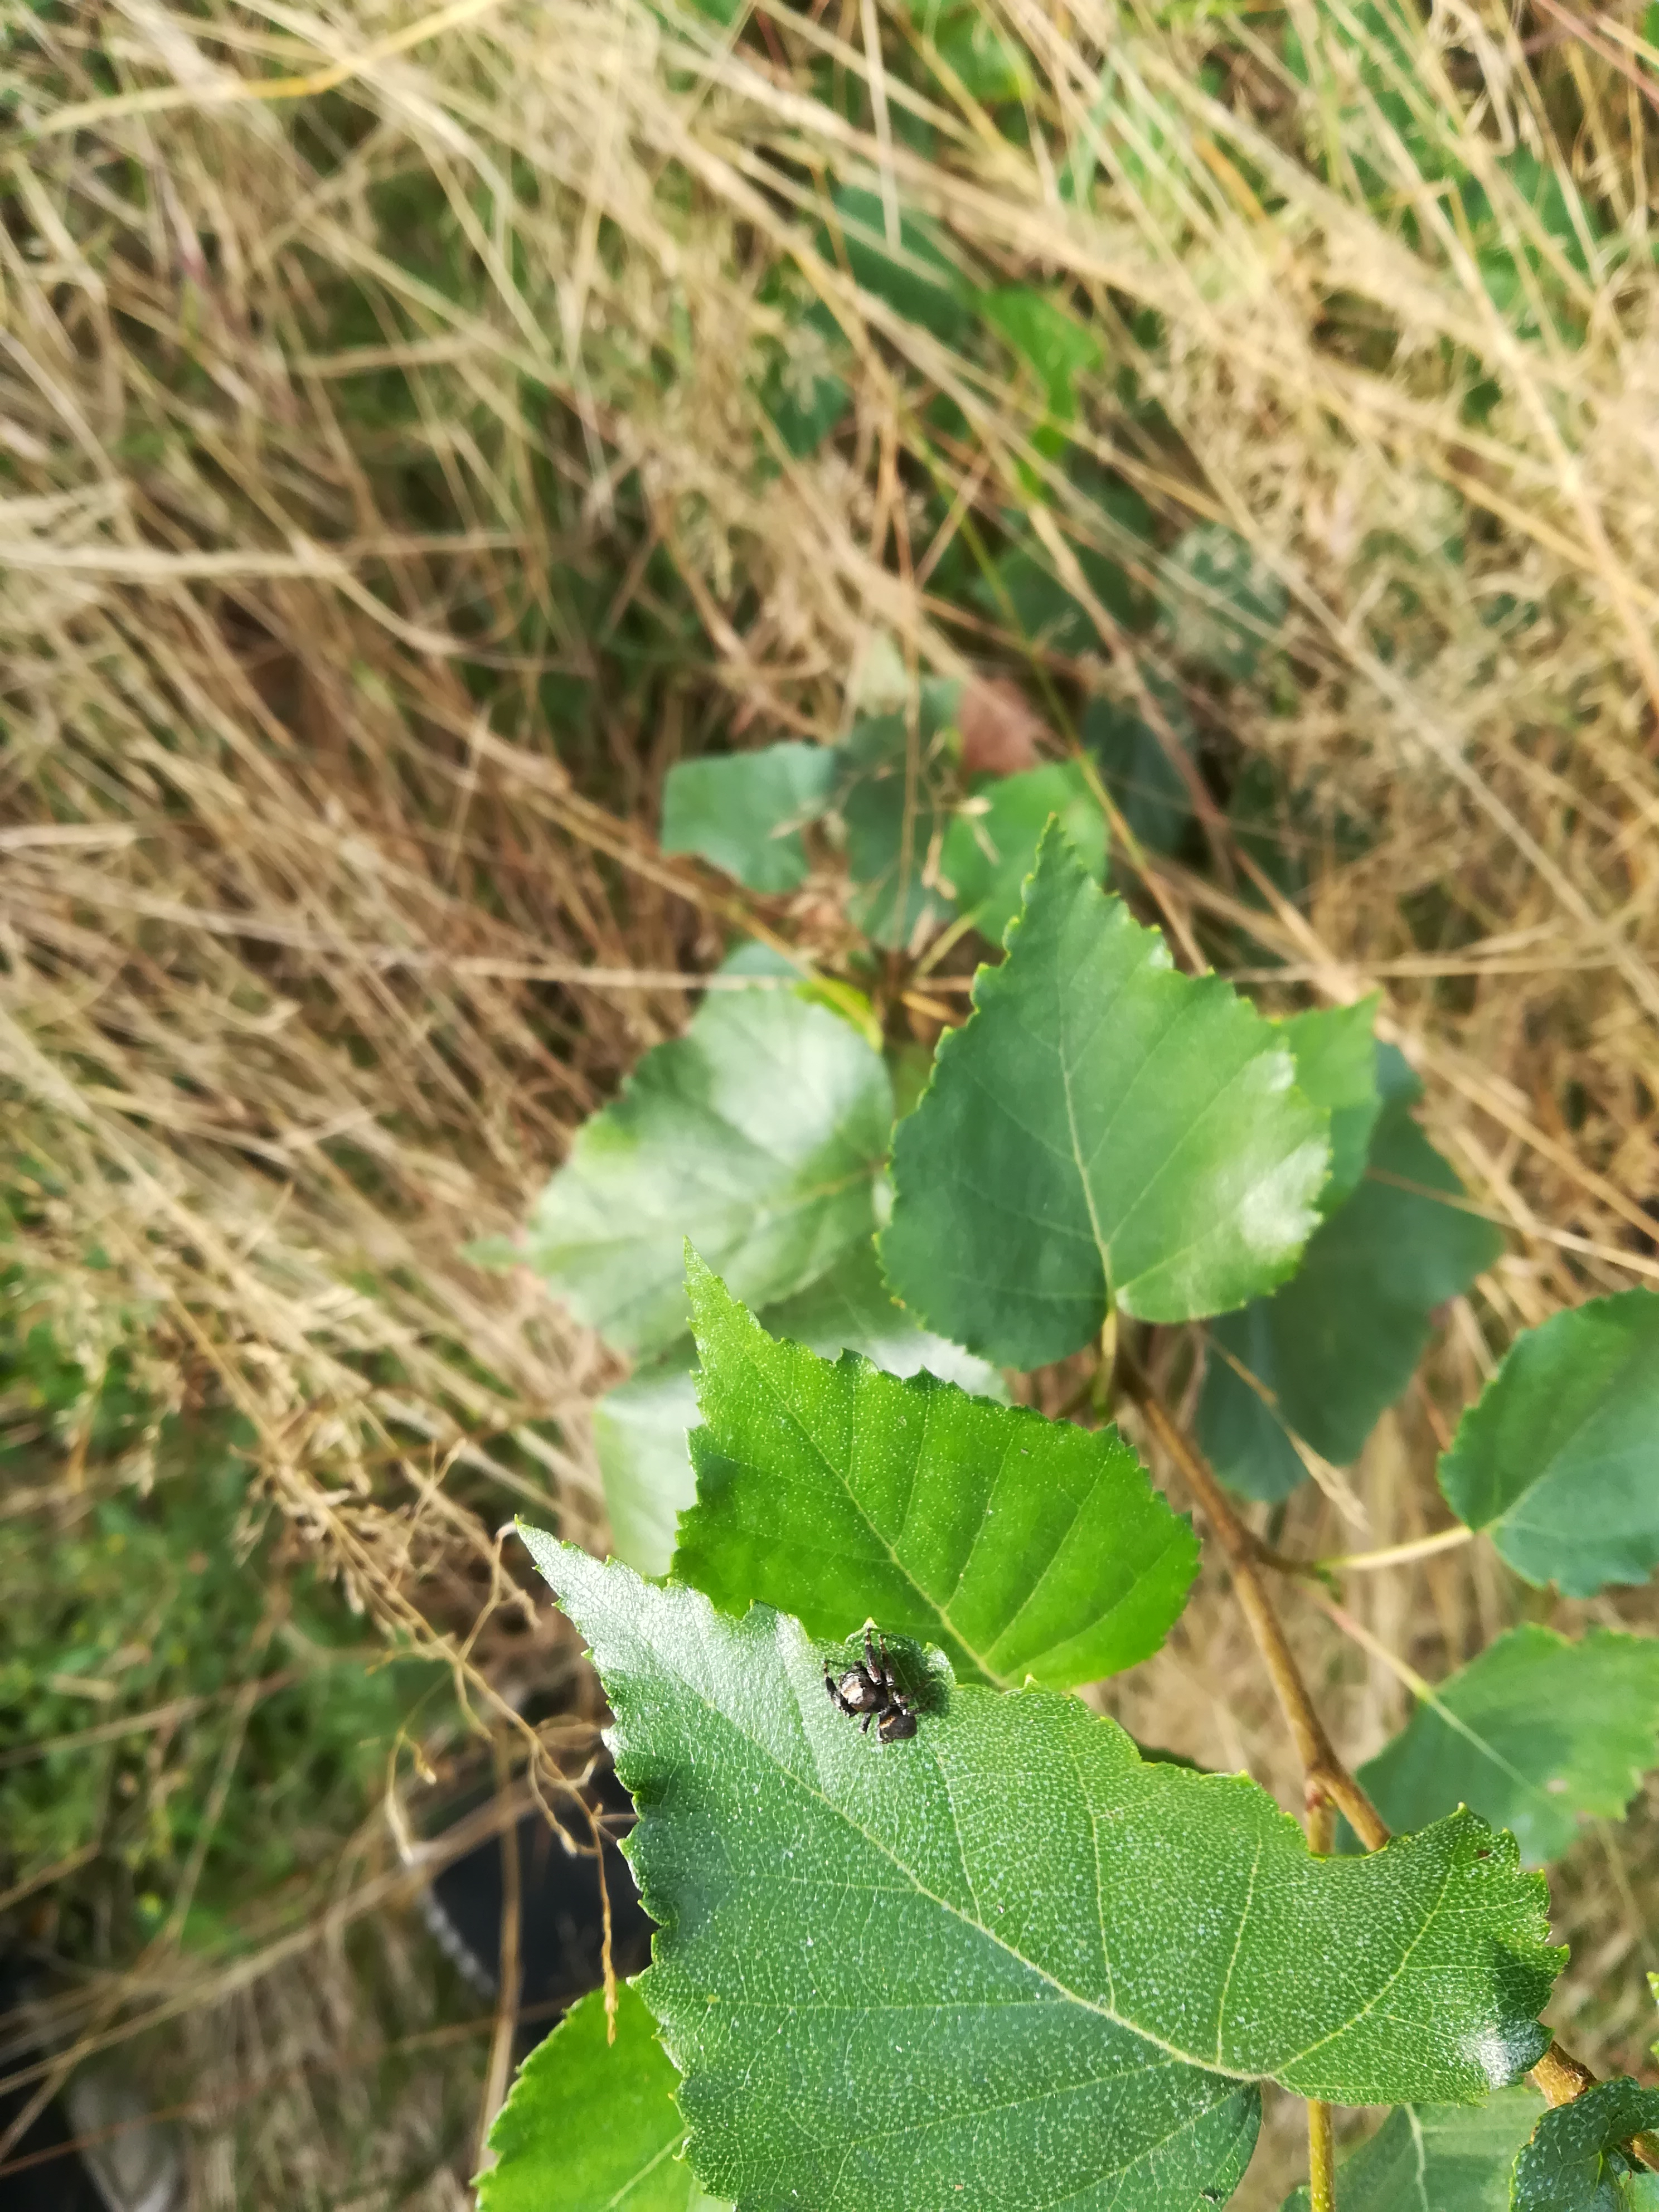spider: (788, 1601, 951, 1775)
